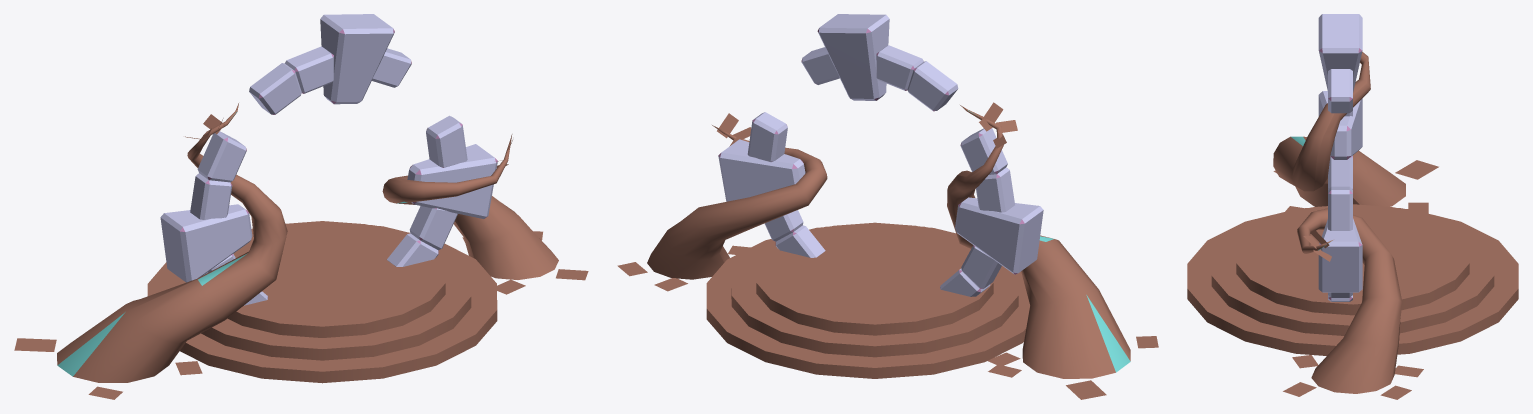
File: Portal.fbx
3 views of the same model, side by side, from view 1: azimuth 30°, elevation 25°; view 2: azimuth 150°, elevation 25°; view 3: azimuth 270°, elevation 25° (orthographic). The views are drawn at different scales.
Parts seen in each view (by area): view 1: 001-0-1, 000-0-0; view 2: 001-0-1, 000-0-0; view 3: 001-0-1, 000-0-0.
Boxes of the visible parts, bbox=[...] form: 001-0-1: bbox=[14, 103, 588, 399]; 000-0-0: bbox=[160, 14, 497, 305]; 001-0-1: bbox=[617, 102, 1158, 399]; 000-0-0: bbox=[718, 14, 1043, 296]; 001-0-1: bbox=[1187, 52, 1518, 399]; 000-0-0: bbox=[1318, 14, 1362, 301].
Size of the model in its own units: 23636 by 12646 by 13787.
